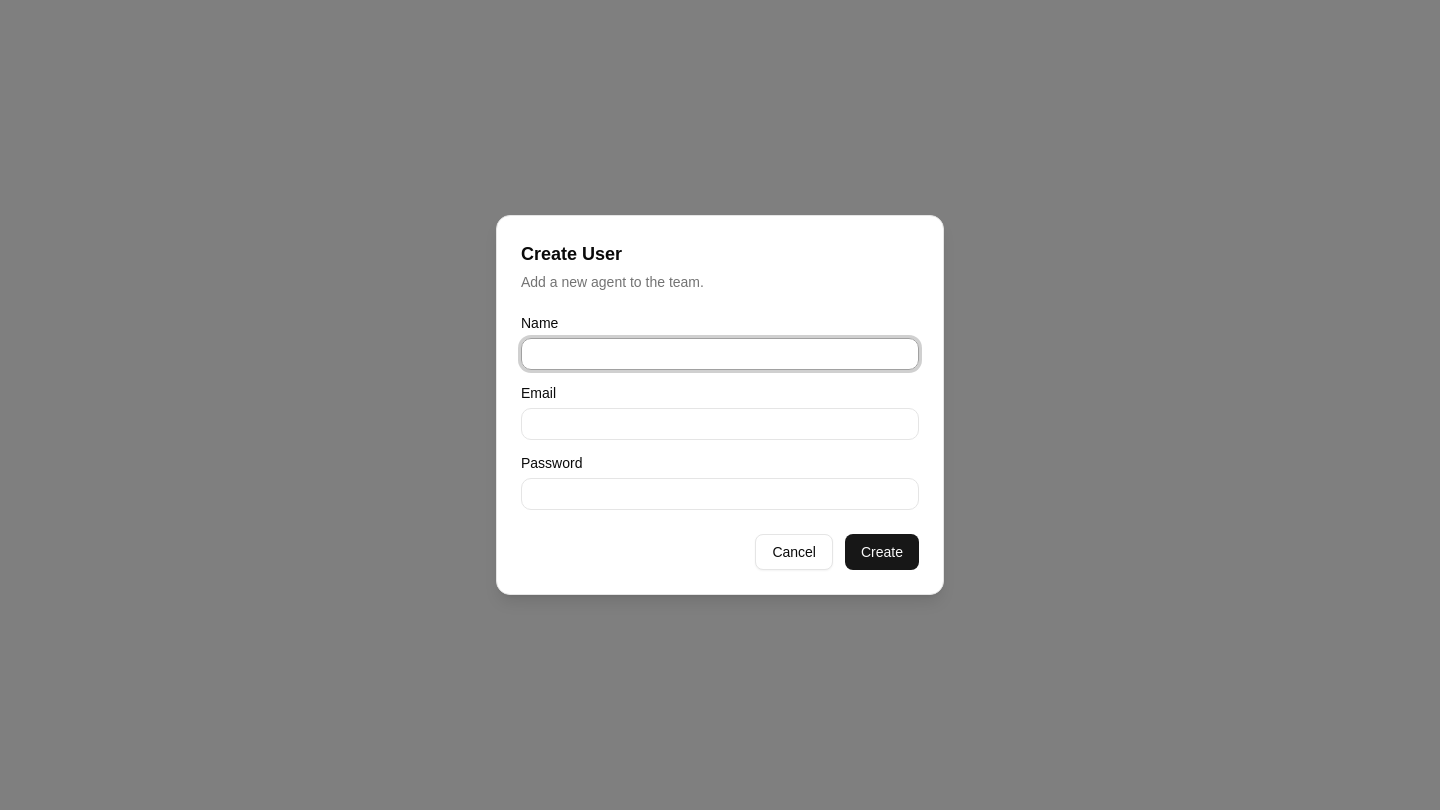
UserFormDialog — create mode › validation errors › shows error for name shorter than 3 characters
In the field labelled "Name": (720, 354) [521,338,919,370], type "AB"
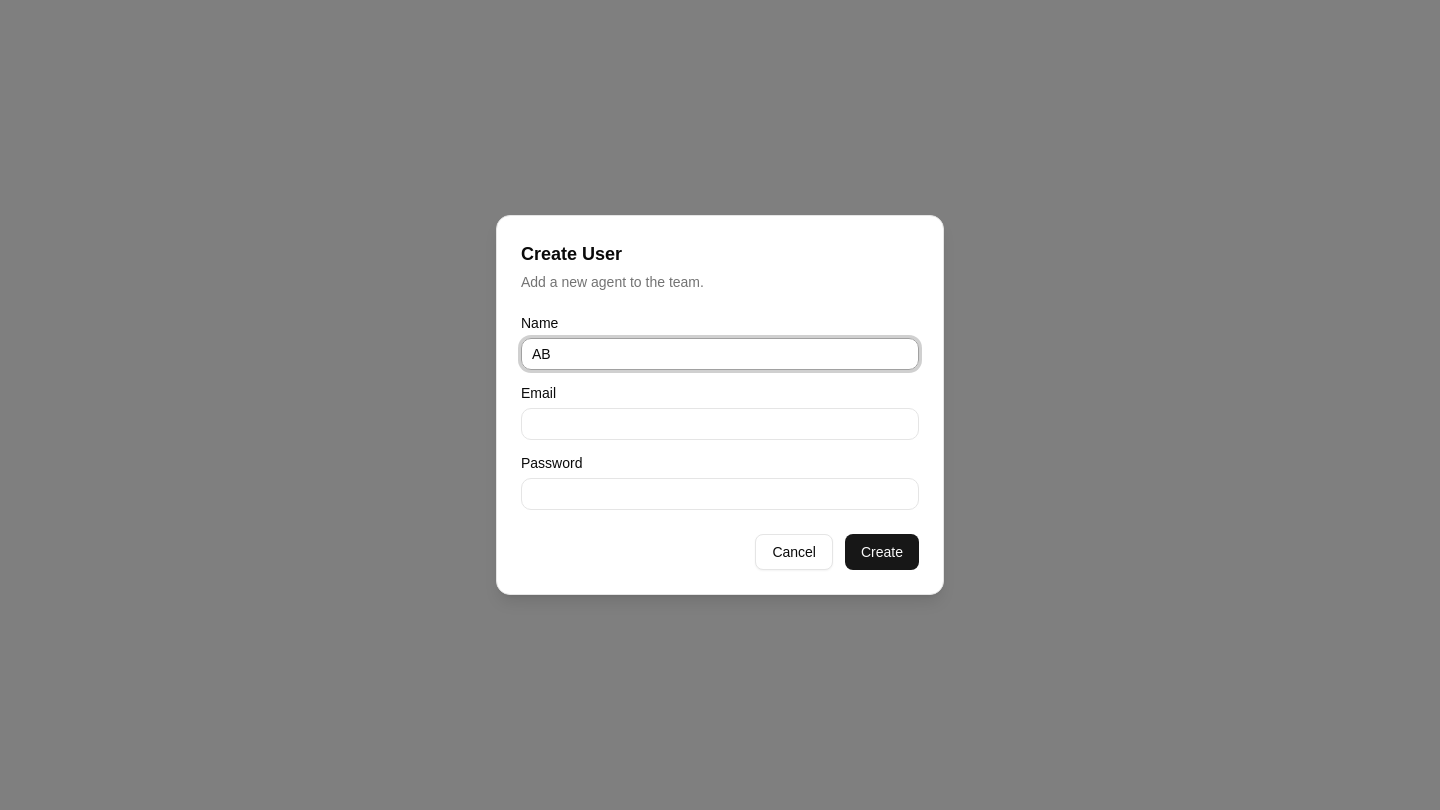
In the field labelled "Email": (720, 424) [521,408,919,440], type "test@example.com"
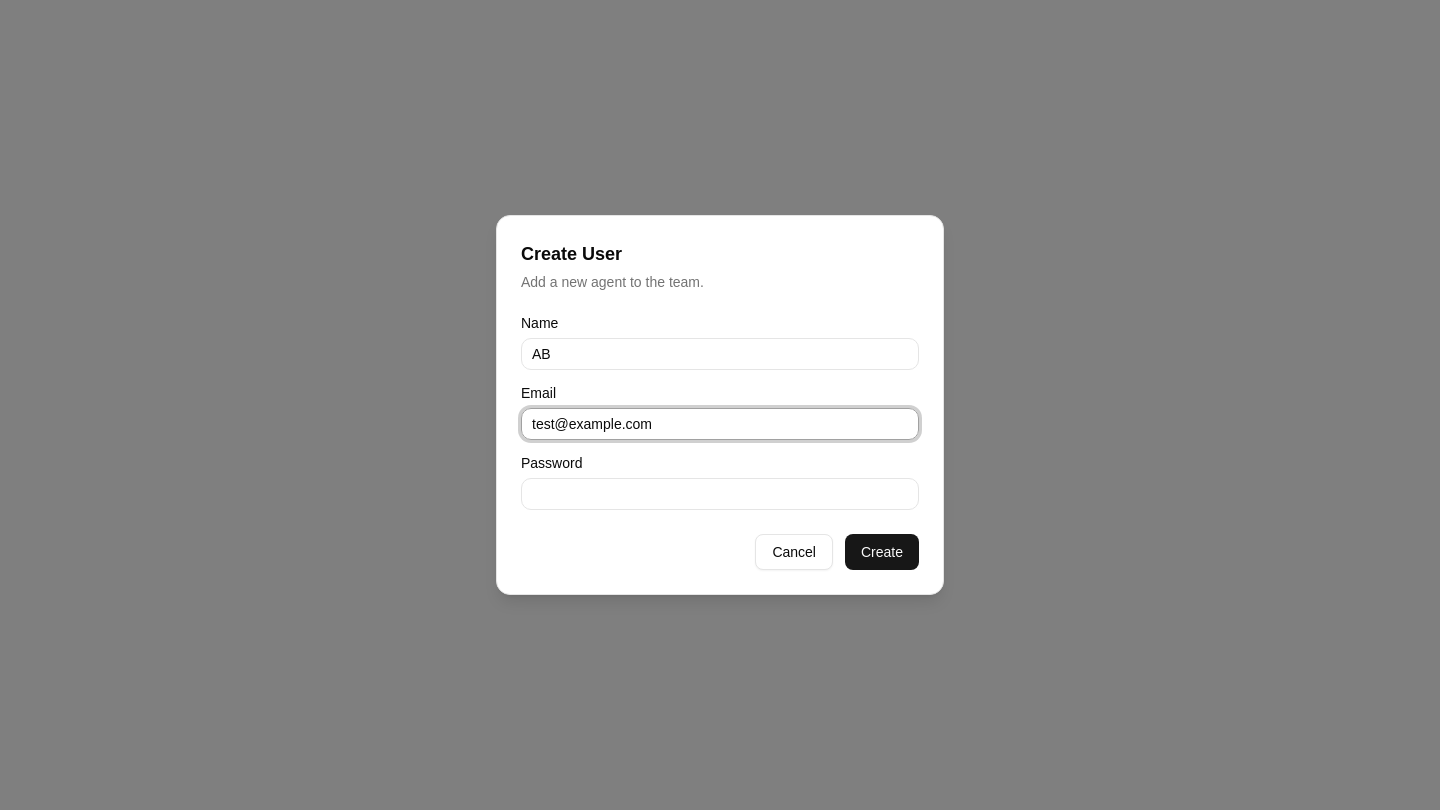
In the password field labelled "Password": (720, 494) [521,478,919,510], type "password123"
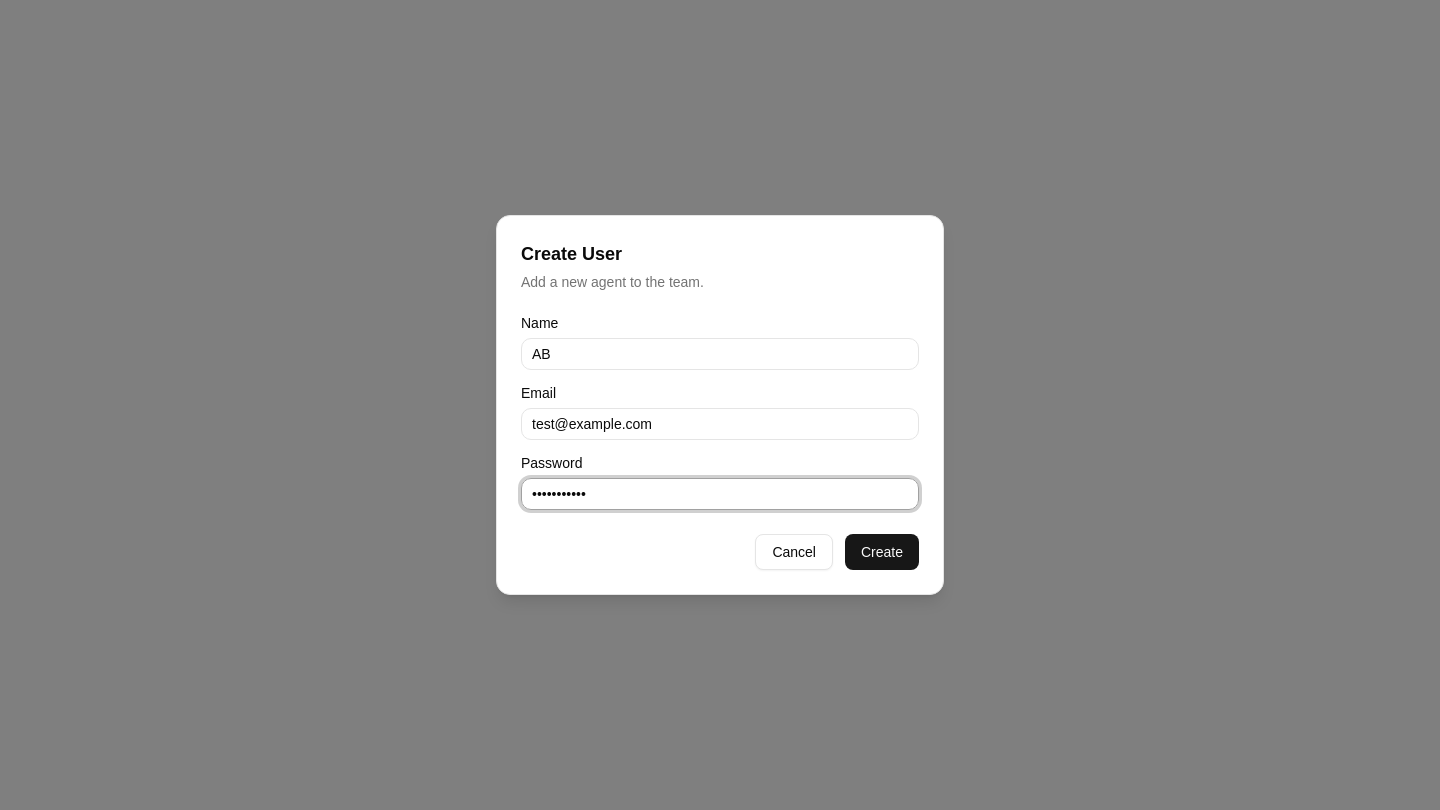
Click the button "Create": (882, 552) [845,534,919,570]
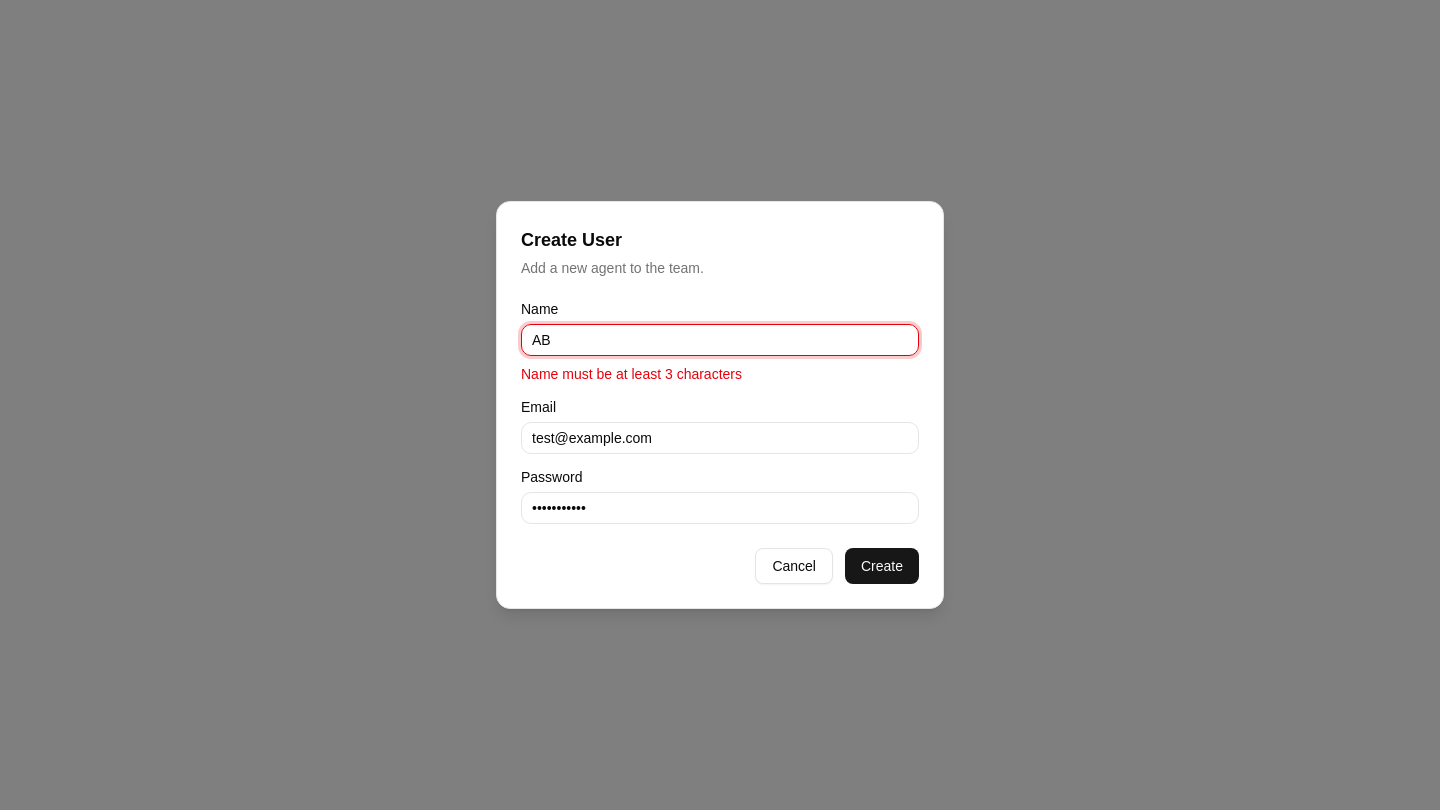
Expected: the text "Name must be at least 3 characters" is shown, [521,366,742,382]
